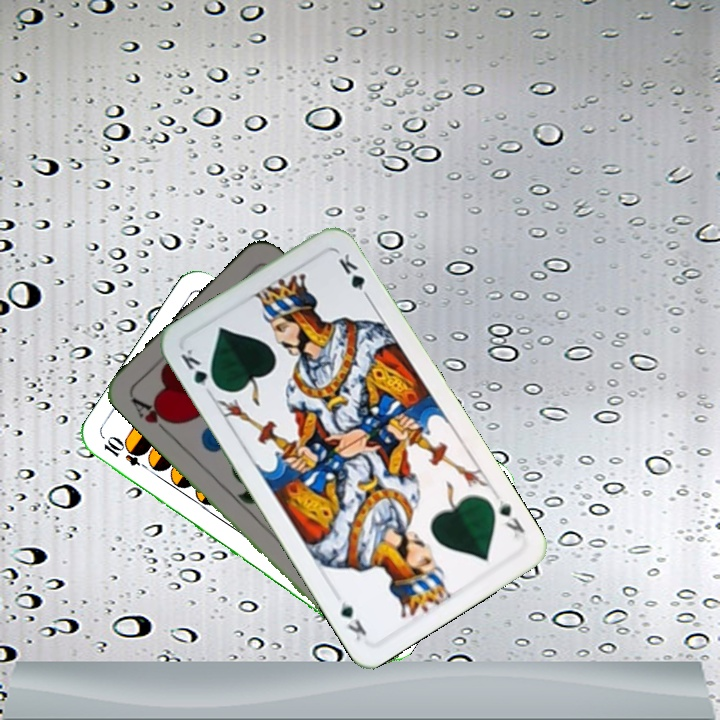E10: (99, 433, 155, 475)
GK: (177, 344, 221, 398), (483, 496, 528, 542)
HA: (128, 393, 178, 439)
